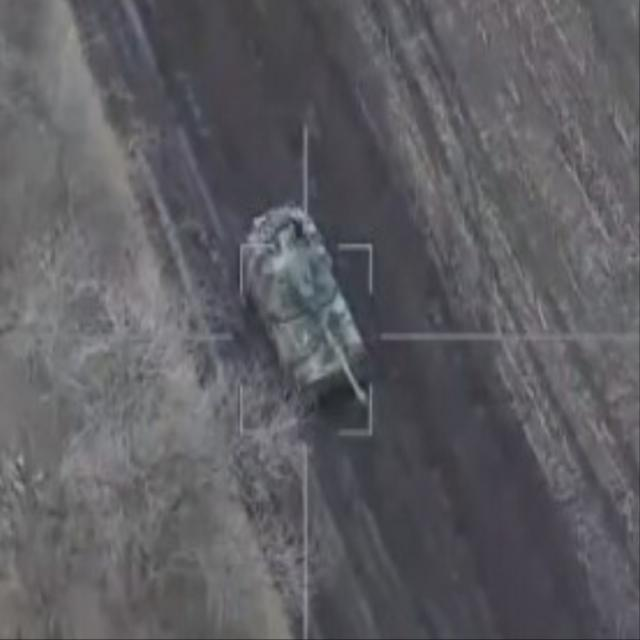cars: (238, 204, 368, 408)
